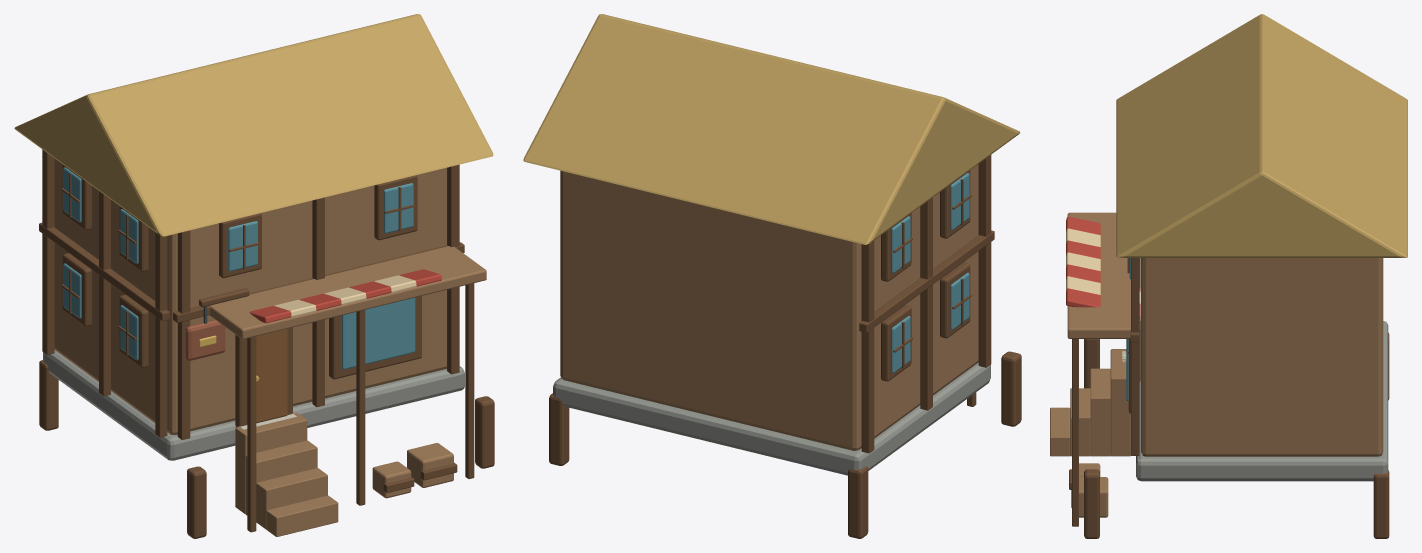
Rendered from wetland-shop-1.glb.
3 views of the same model, side by side, from view 1: azimuth 30°, elevation 25°; view 2: azimuth 150°, elevation 25°; view 3: azimuth 270°, elevation 25° (orthographic). The views are drawn at different scales.
Parts seen in each view (by area): view 1: Golden thatch, Aged oak, Dark beams, Blue glass, Foundation stone, Door oak, Market red cloth, Market cream cloth, Painted sign; view 2: Aged oak, Golden thatch, Dark beams, Foundation stone, Blue glass; view 3: Aged oak, Golden thatch, Foundation stone, Dark beams, Market red cloth, Market cream cloth.
Part boxes in pixels (<box>): Golden thatch: <box>14,14,493,236</box>; Aged oak: <box>54,159,486,536</box>; Dark beams: <box>39,149,494,538</box>; Blue glass: <box>63,167,415,369</box>; Foundation stone: <box>43,350,464,460</box>; Door oak: <box>246,328,287,423</box>; Market red cloth: <box>249,269,441,323</box>; Market cream cloth: <box>274,275,416,317</box>; Painted sign: <box>185,320,225,360</box>; Aged oak: <box>560,164,978,450</box>; Golden thatch: <box>523,14,1020,244</box>; Dark beams: <box>549,155,1021,538</box>; Foundation stone: <box>553,362,990,475</box>; Blue glass: <box>891,173,969,372</box>; Aged oak: <box>1050,212,1383,517</box>; Golden thatch: <box>1116,14,1407,257</box>; Foundation stone: <box>1136,321,1388,481</box>; Dark beams: <box>1069,258,1389,538</box>; Market red cloth: <box>1066,216,1140,318</box>; Market cream cloth: <box>1066,228,1140,303</box>.
Bounding box in the file's own units: 4.3 × 4.7 × 4.07.
